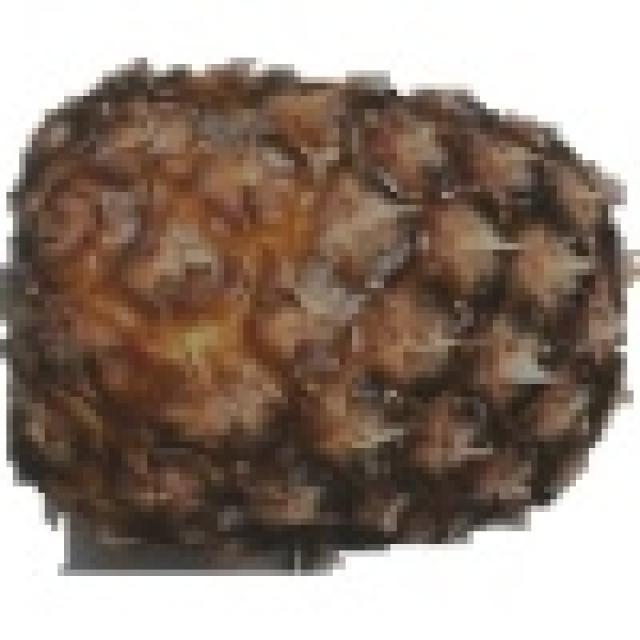pineapple: (26, 58, 627, 557)
